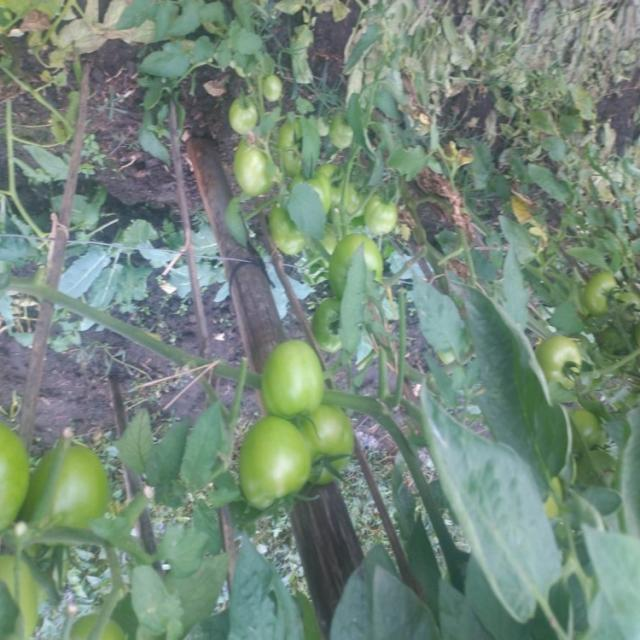tomato: (223, 413, 326, 518), (33, 438, 126, 540), (247, 331, 339, 430), (307, 404, 366, 482), (540, 329, 594, 399), (325, 227, 383, 289), (1, 425, 39, 517), (266, 116, 312, 187), (266, 203, 308, 278), (571, 256, 618, 320), (300, 159, 350, 216), (353, 195, 403, 247), (329, 106, 369, 158), (228, 140, 266, 185), (230, 97, 266, 141), (259, 70, 286, 108)
